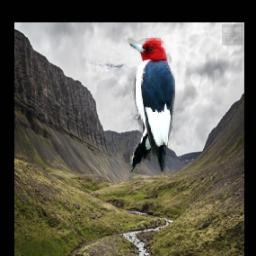Woodpecker: (128, 33, 176, 176)
